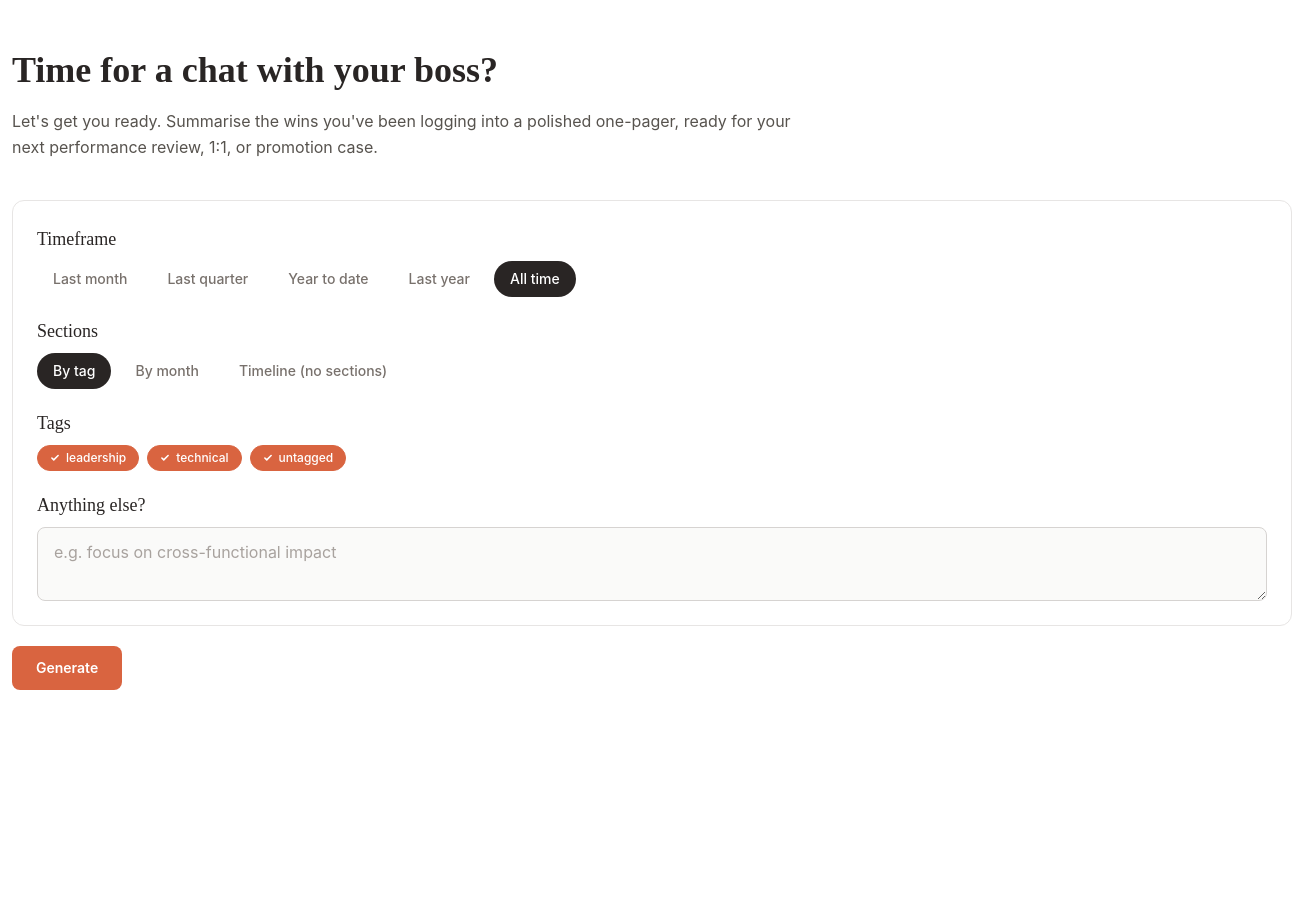
Scenario: BragDoc — output rendering › displays generated bullets
Click the button "Generate".
click(67, 668)  # box [12,646,122,690]
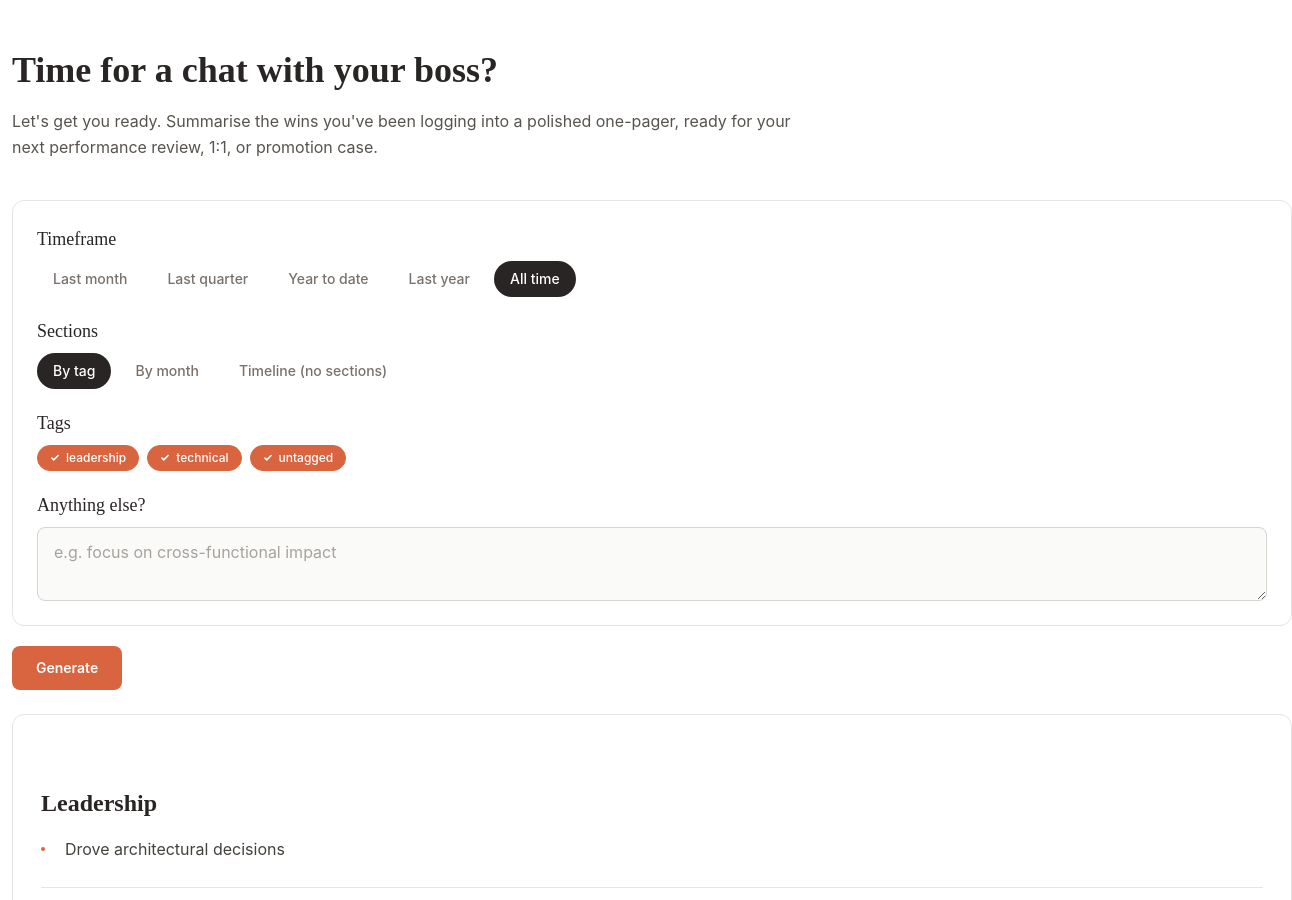
Now the list item "Drove architectural decisions" is shown, box [65,839,285,859]
